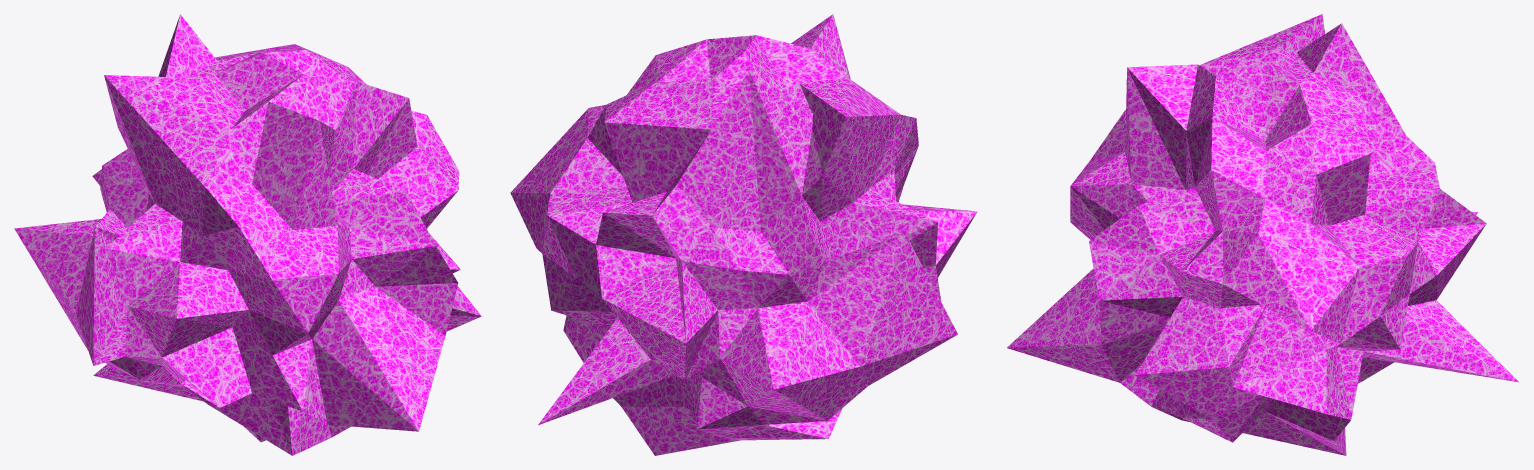
File: virus.fbx
3 views of the same model, side by side, from view 1: azimuth 30°, elevation 25°; view 2: azimuth 150°, elevation 25°; view 3: azimuth 270°, elevation 25° (orthographic). The views are drawn at different scales.
Visible parts, largest first — view 1: Icosphere; view 2: Icosphere; view 3: Icosphere.
Part boxes in pixels (x1,y1,x2,y2): Icosphere: (14, 14, 481, 455); Icosphere: (510, 14, 977, 455); Icosphere: (1007, 14, 1518, 455).
Bounding box in the file's own units: 3.26 × 3.16 × 3.75.
Materials: 1 (1 with a texture image).
